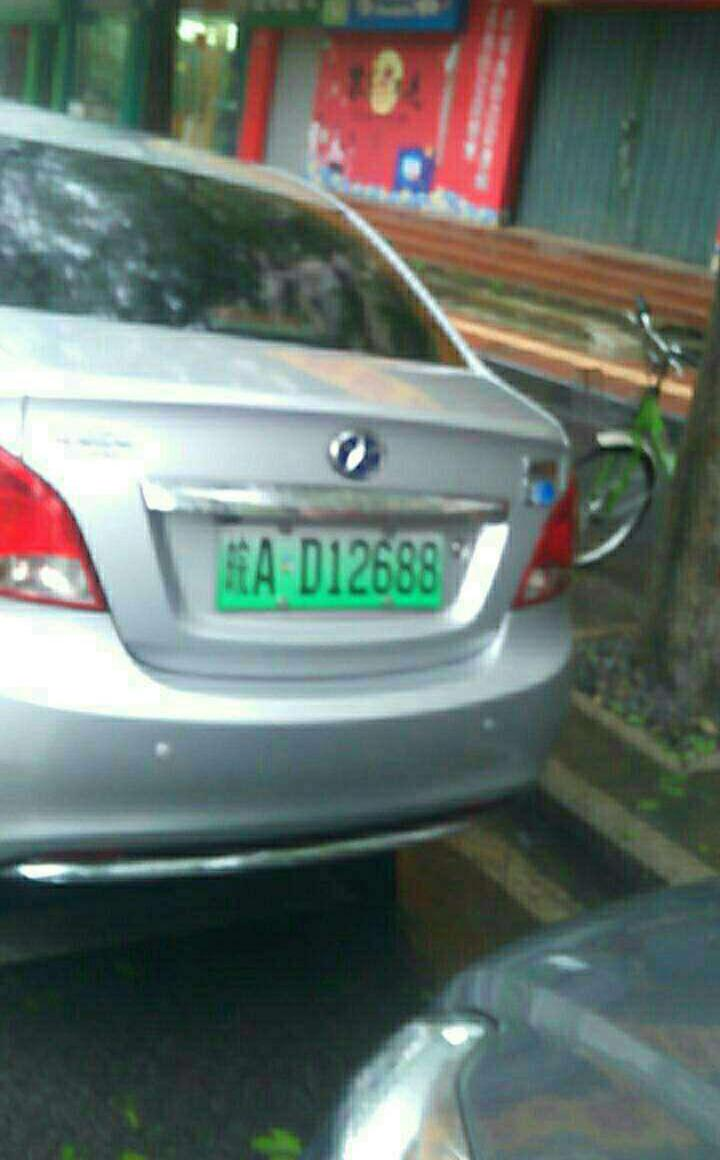car_green: (204, 513, 450, 614)
